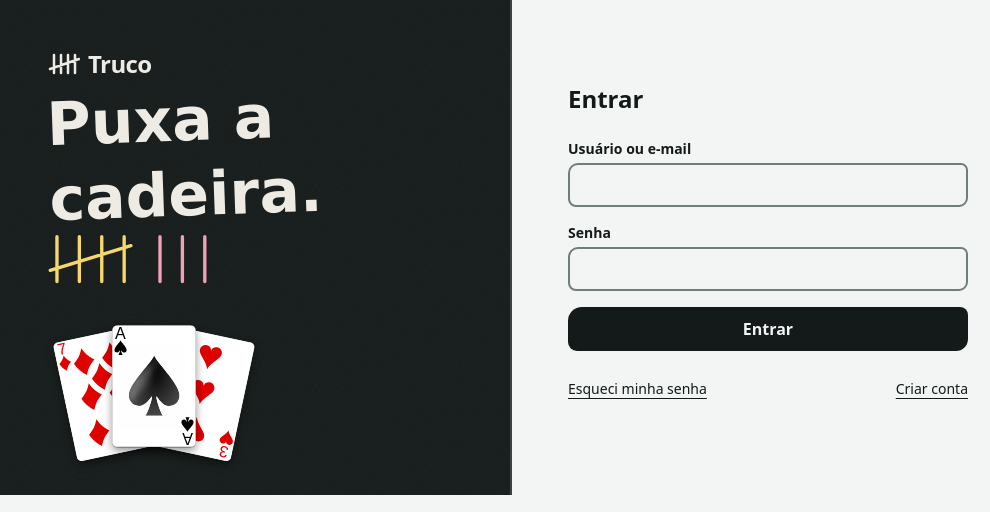
Test: login limitado mostra "Tente de novo em N s"
Type "ana" into the field labelled "Usuário ou e-mail" at (768, 185), box [568,163,968,207]
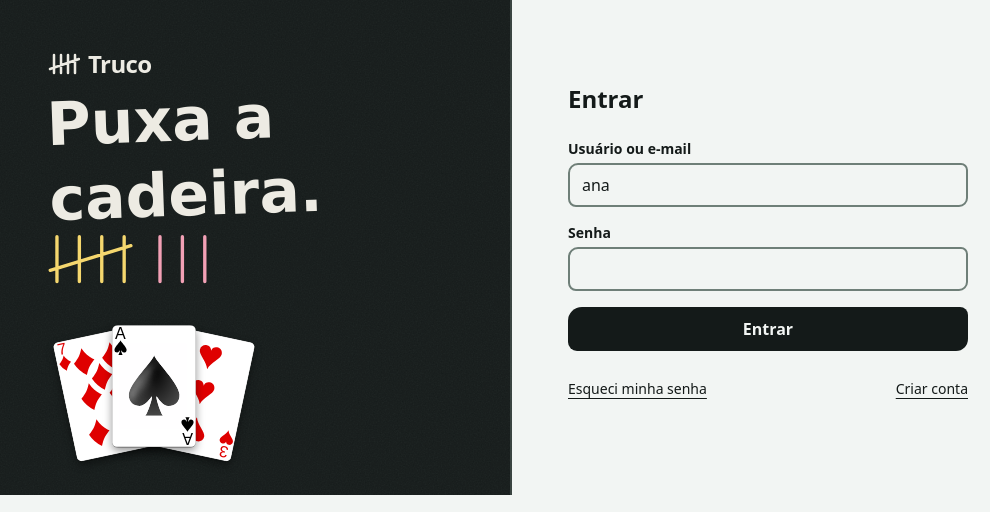
Type "x" into the password field labelled "Senha" at (768, 269), box [568,247,968,291]
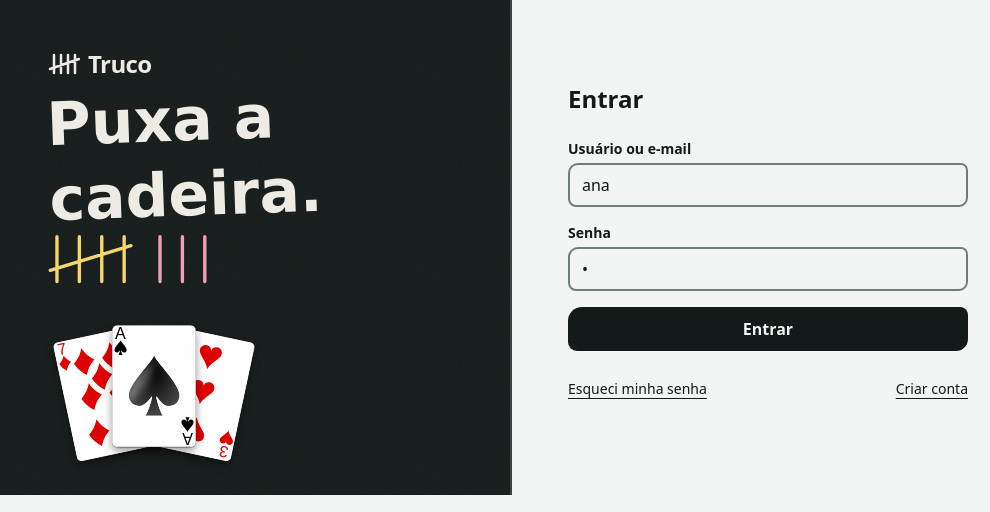
Submit the form, box [568,139,968,351]
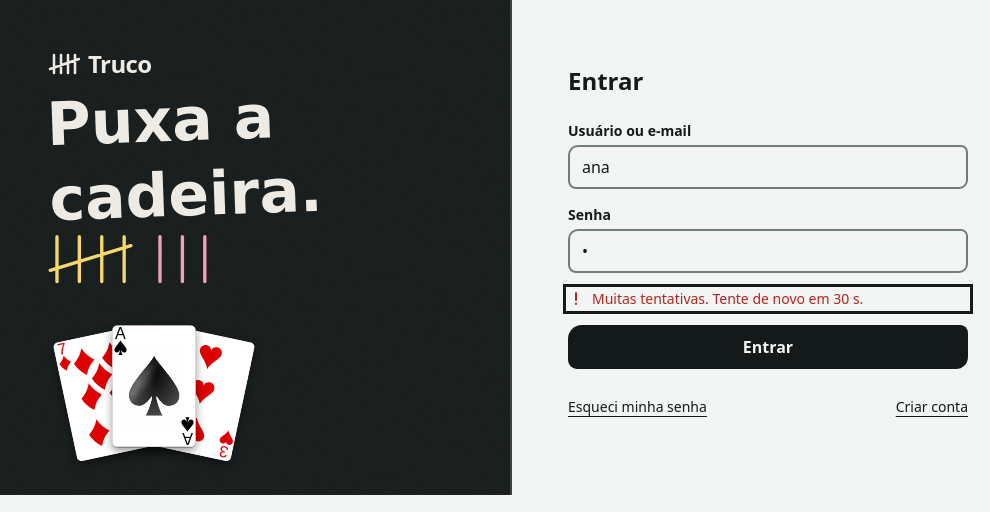
Result: the text "Tente de novo em 30 s" is shown at [709,289,863,308]
